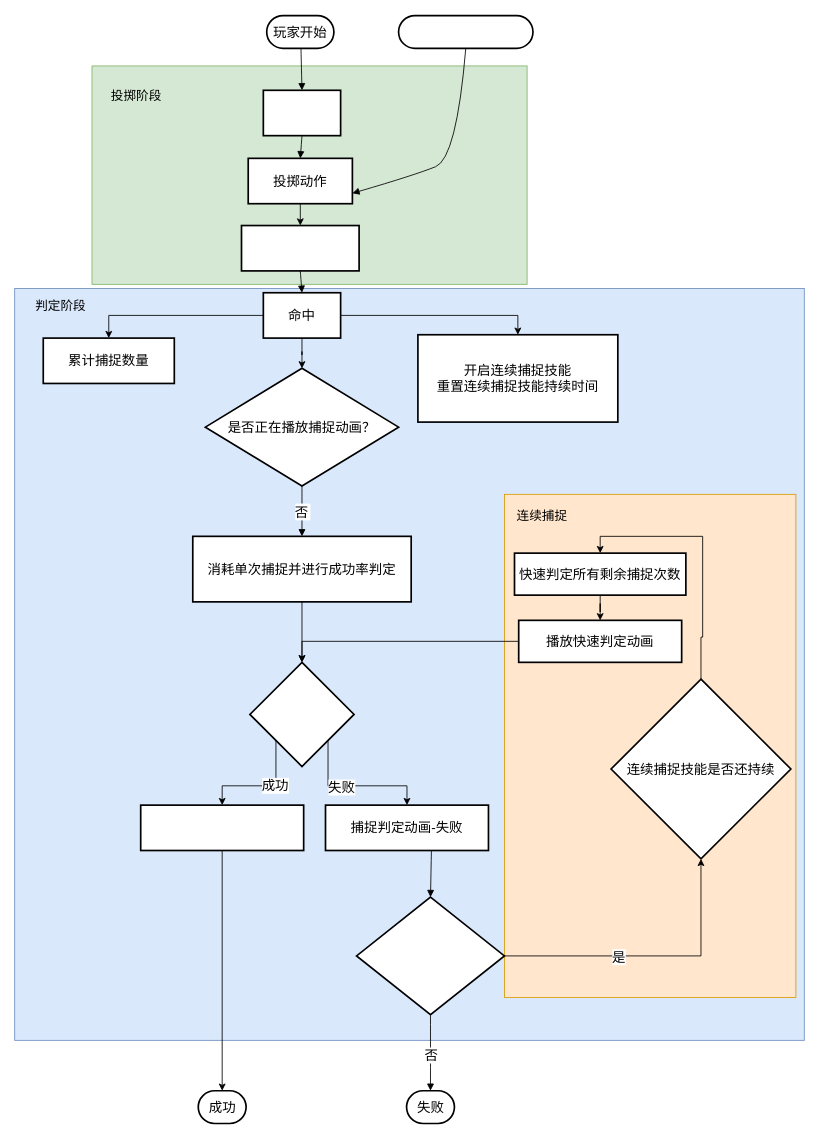
Some shapes in this 819 by 1138 pixel diagram are drawn without their labels. Each missing label, with the box of its shape:
投掷物飞行: (240, 224, 360, 271)
捕捉判定动画-成功: (139, 804, 304, 851)
是否剩余捕捉判定次数: (355, 896, 505, 1015)
是否成功?: (249, 661, 354, 767)
玩家使用连续捕捉技能: (397, 14, 533, 49)
瞄准: (262, 89, 341, 136)
